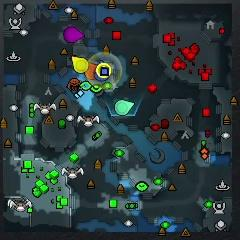Other: (96, 63, 111, 79)
p1: (94, 73, 112, 81)
p2: (114, 100, 135, 116)
p3: (64, 27, 86, 44)
p4: (71, 57, 89, 73)
p5: (84, 62, 98, 81)
